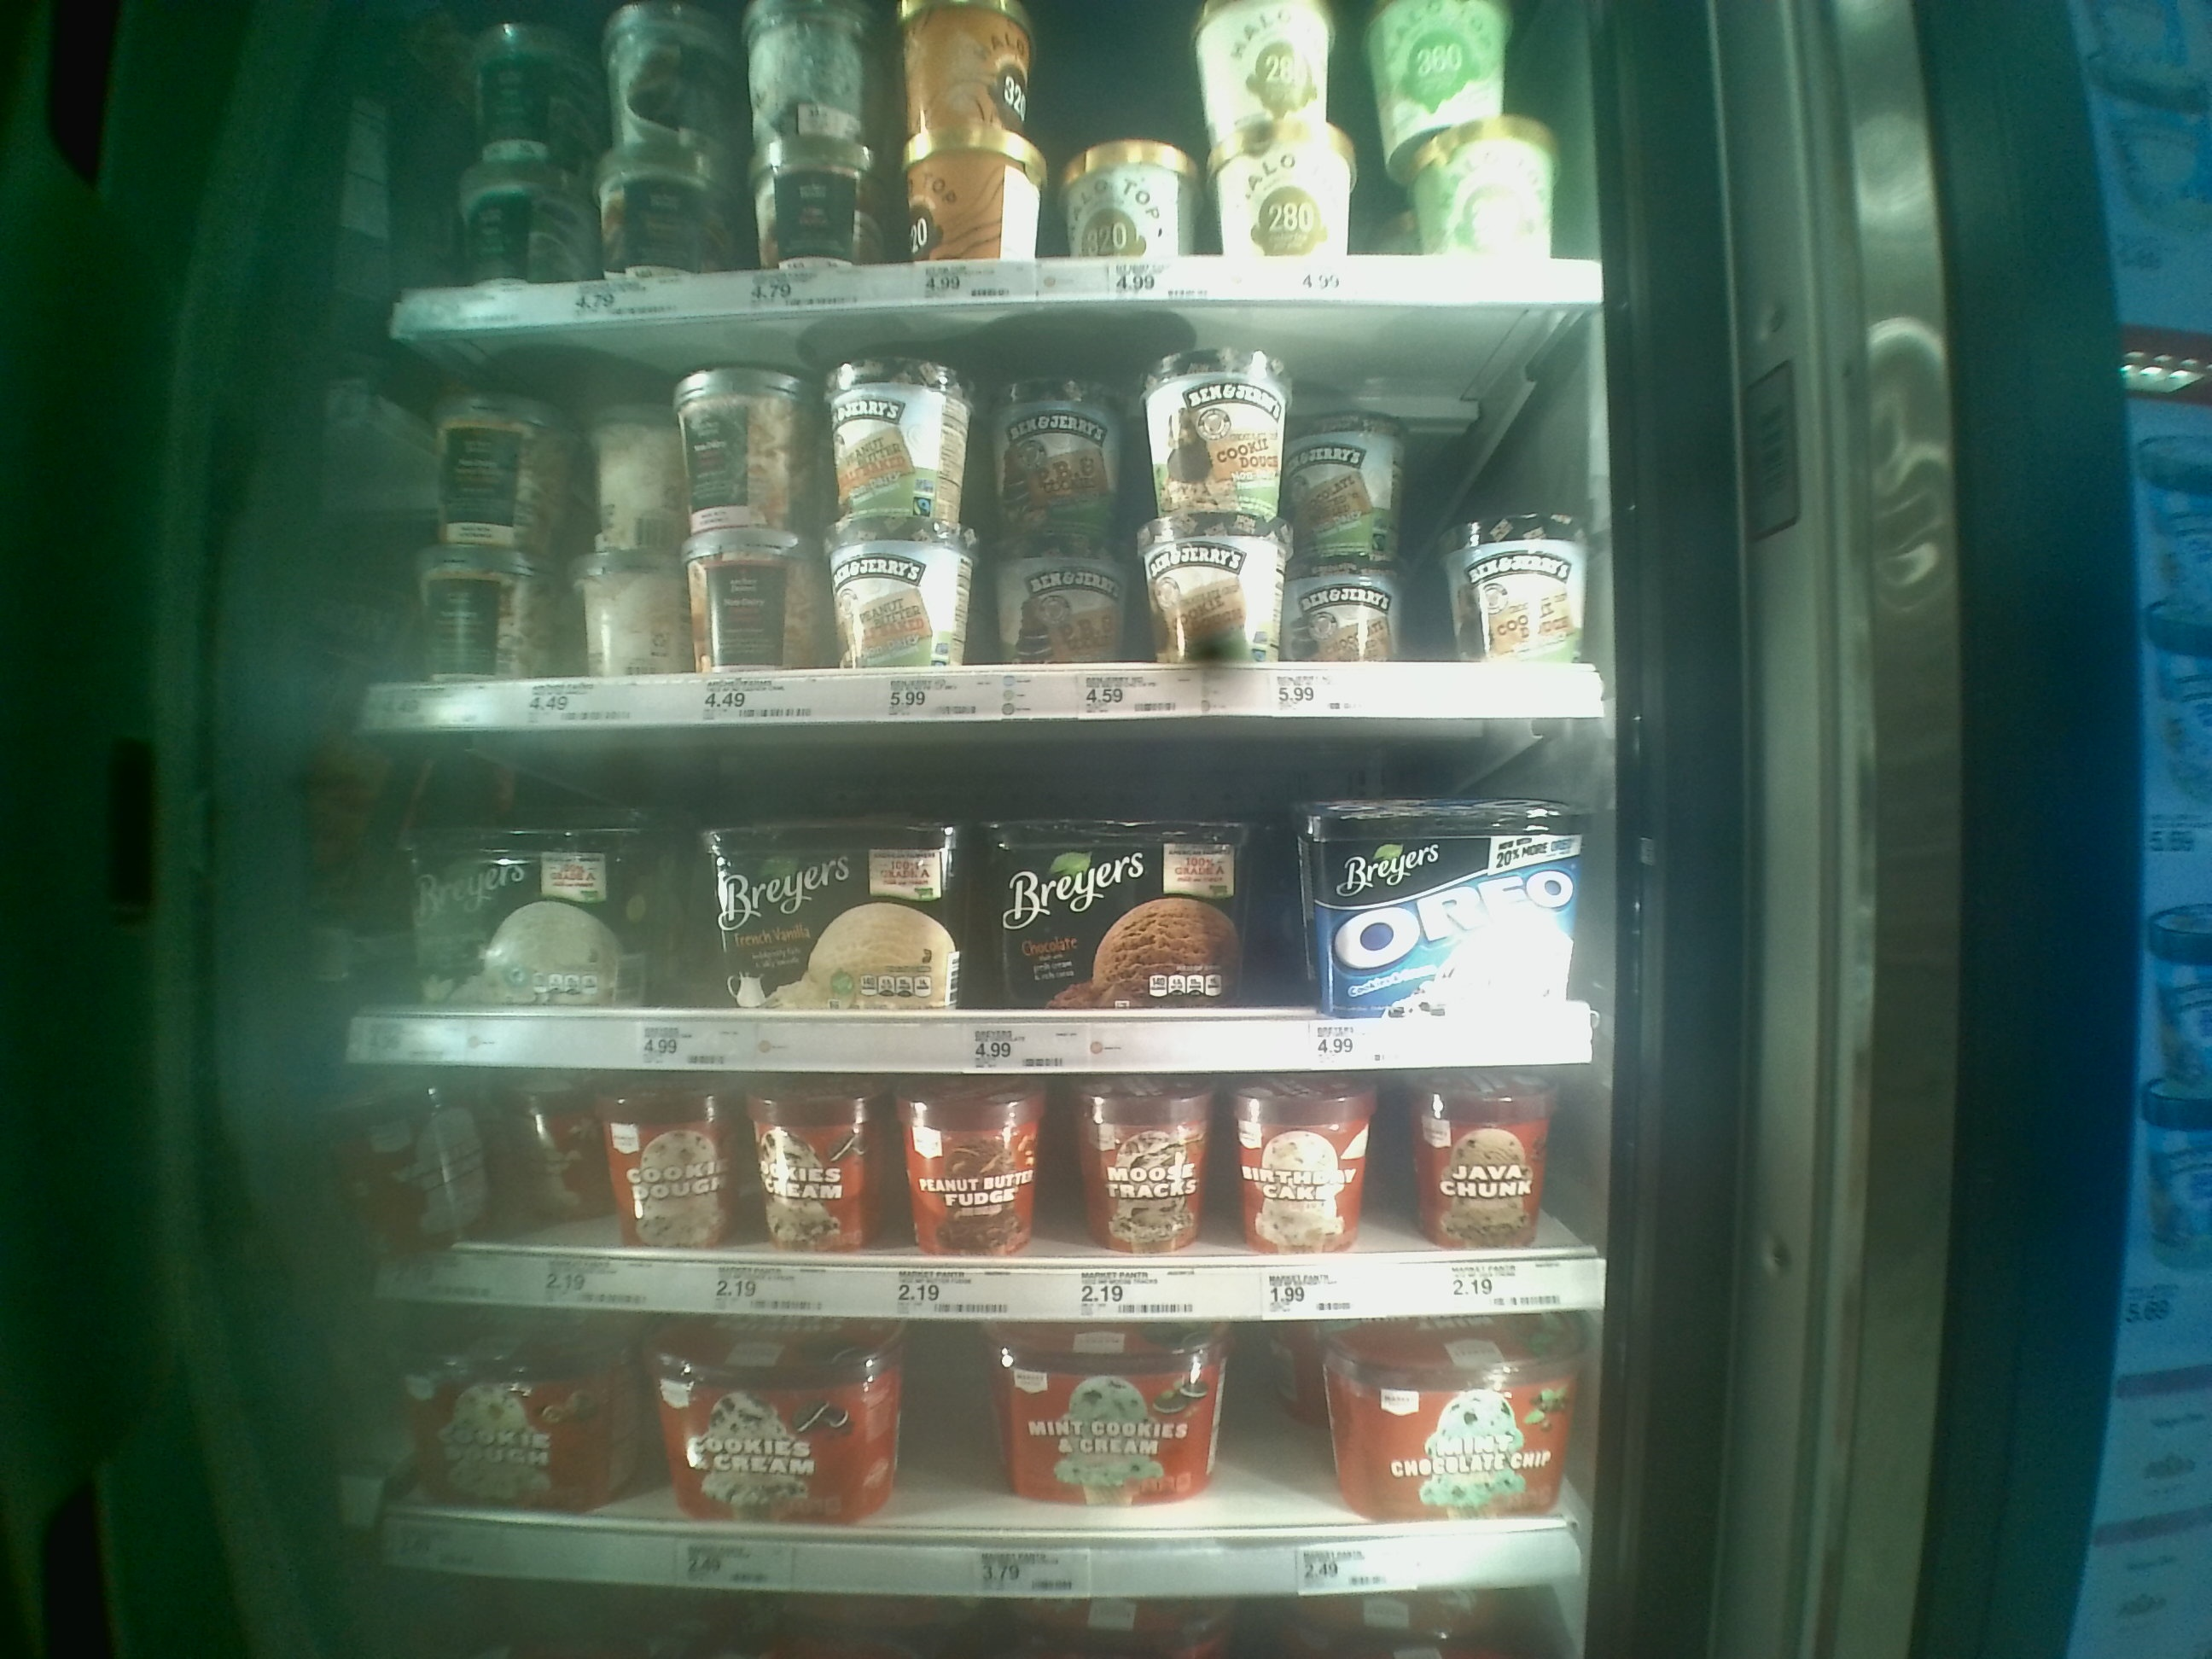ice-cream-shelf: (359, 317, 1613, 734), (347, 741, 1622, 1073), (376, 1310, 1588, 1593), (366, 1066, 1599, 1328)
